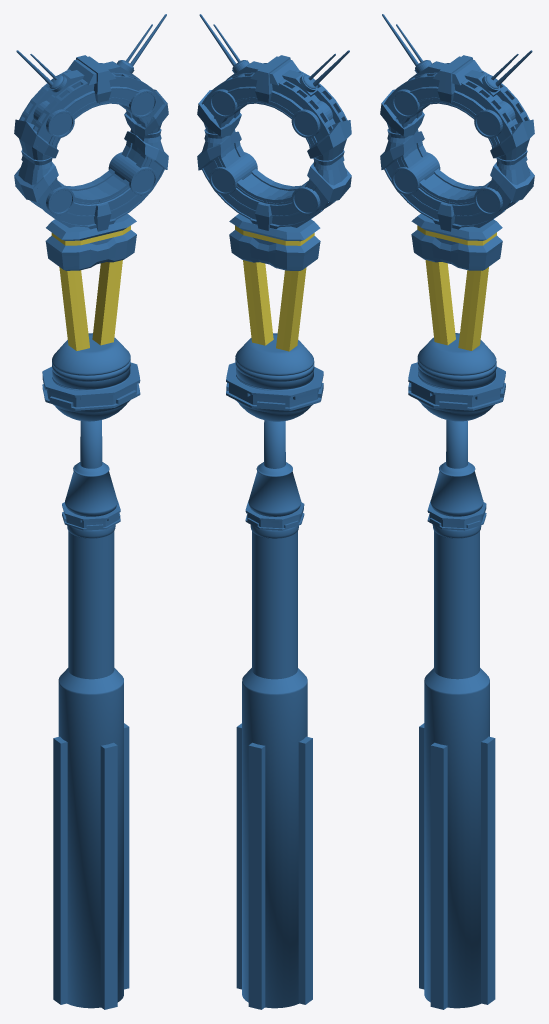
Rendered from CheckPointPillar.fbx.
3 views of the same model, side by side, from view 1: azimuth 30°, elevation 25°; view 2: azimuth 150°, elevation 25°; view 3: azimuth 330°, elevation 25° (orthographic).
Visible parts, largest first — view 1: FT_BaseSider, FT_Ring, FT_SliderTop, FT_SliderMiddle; view 2: FT_BaseSider, FT_Ring, FT_SliderTop, FT_SliderMiddle; view 3: FT_BaseSider, FT_Ring, FT_SliderTop, FT_SliderMiddle.
Part boxes in pixels (x1,y1,x2,y2): FT_BaseSider: [53, 668, 129, 1009]; FT_Ring: [14, 14, 168, 231]; FT_SliderTop: [42, 214, 140, 468]; FT_SliderMiddle: [62, 462, 120, 679]; FT_BaseSider: [236, 668, 312, 1009]; FT_Ring: [197, 14, 351, 230]; FT_SliderTop: [226, 214, 323, 468]; FT_SliderMiddle: [245, 462, 304, 679]; FT_BaseSider: [419, 668, 495, 1009]; FT_Ring: [380, 14, 534, 231]; FT_SliderTop: [408, 213, 505, 468]; FT_SliderMiddle: [427, 462, 486, 679].
Size of the model in its own units: 285 by 1740 by 153.
